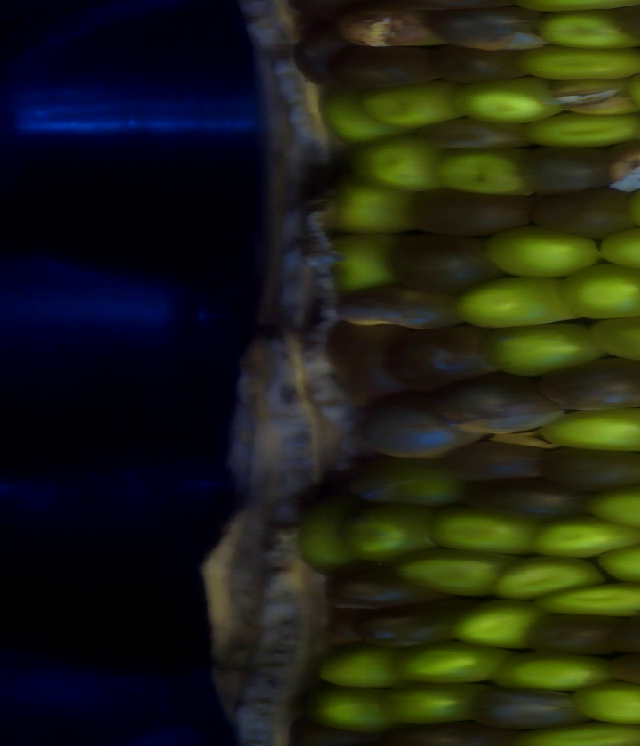fluorescent: (340, 447, 477, 515), (446, 271, 584, 333), (476, 319, 611, 381), (481, 219, 609, 281), (488, 548, 607, 610), (486, 647, 627, 698), (356, 76, 477, 134), (314, 84, 417, 151), (447, 72, 569, 128), (332, 501, 435, 567), (422, 502, 546, 556), (391, 545, 508, 601), (348, 131, 447, 197), (442, 595, 556, 651), (429, 144, 537, 203), (325, 176, 423, 241), (368, 680, 495, 730), (524, 512, 640, 566), (391, 638, 515, 687), (288, 499, 362, 579), (531, 404, 640, 458), (530, 4, 640, 57), (306, 639, 408, 692), (523, 108, 640, 154), (552, 261, 640, 322), (514, 43, 640, 85), (530, 574, 640, 621), (299, 682, 399, 733), (323, 228, 402, 292), (541, 74, 640, 122), (581, 306, 640, 367), (573, 677, 640, 728), (583, 479, 640, 538), (593, 219, 640, 276), (592, 538, 640, 587)
nonfluorescent: (347, 385, 488, 461), (319, 317, 423, 410), (384, 225, 508, 299), (430, 369, 572, 433), (377, 322, 502, 391), (326, 278, 469, 335), (401, 182, 537, 241), (452, 474, 595, 524), (317, 557, 440, 614), (524, 184, 640, 244), (419, 9, 552, 60), (536, 353, 640, 418), (332, 41, 446, 94), (539, 440, 640, 497), (354, 600, 466, 650), (429, 37, 533, 90), (522, 607, 625, 660), (438, 437, 551, 485), (512, 142, 609, 197), (409, 113, 531, 156), (286, 19, 353, 91), (599, 138, 640, 196), (313, 607, 369, 647), (604, 608, 640, 660), (606, 1, 640, 52), (605, 646, 640, 691)
